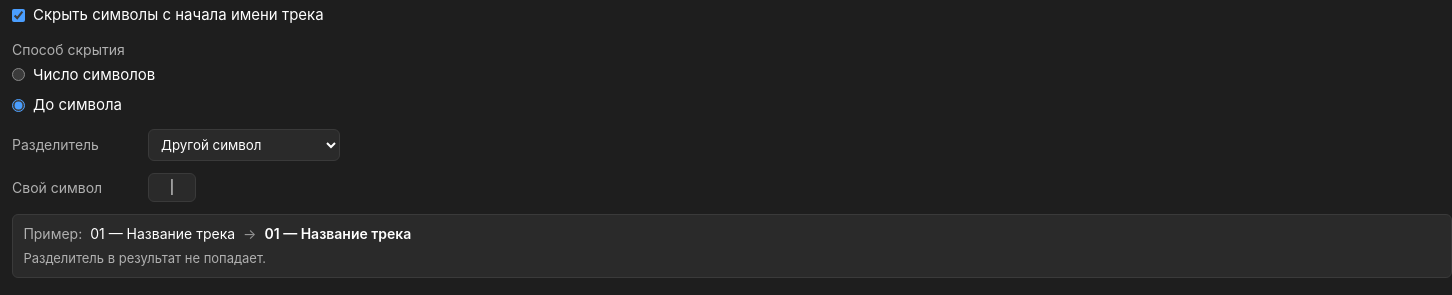
PartyTrackDisplaySection custom delimiter › switches from a custom character back to a preset
Select "Дефис" in the dropdown labelled "Разделитель" at (244,144), box [148,128,340,160]
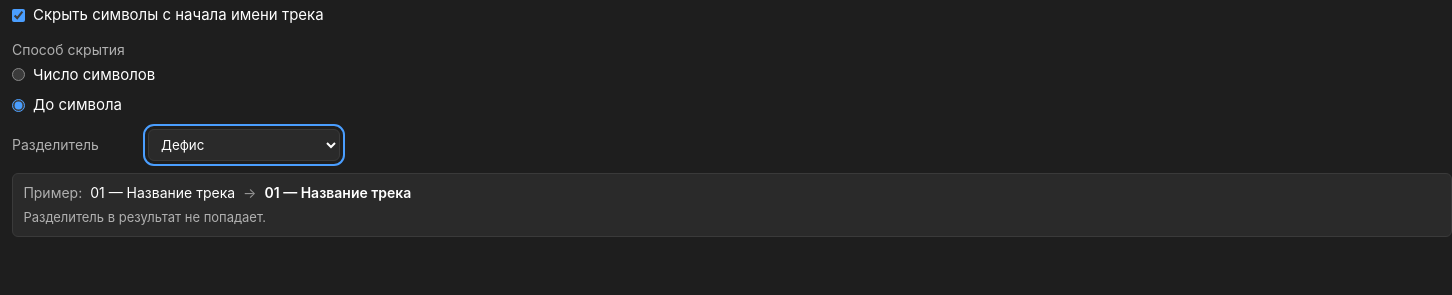
expect the text labelled "Свой символ" is gone: met
